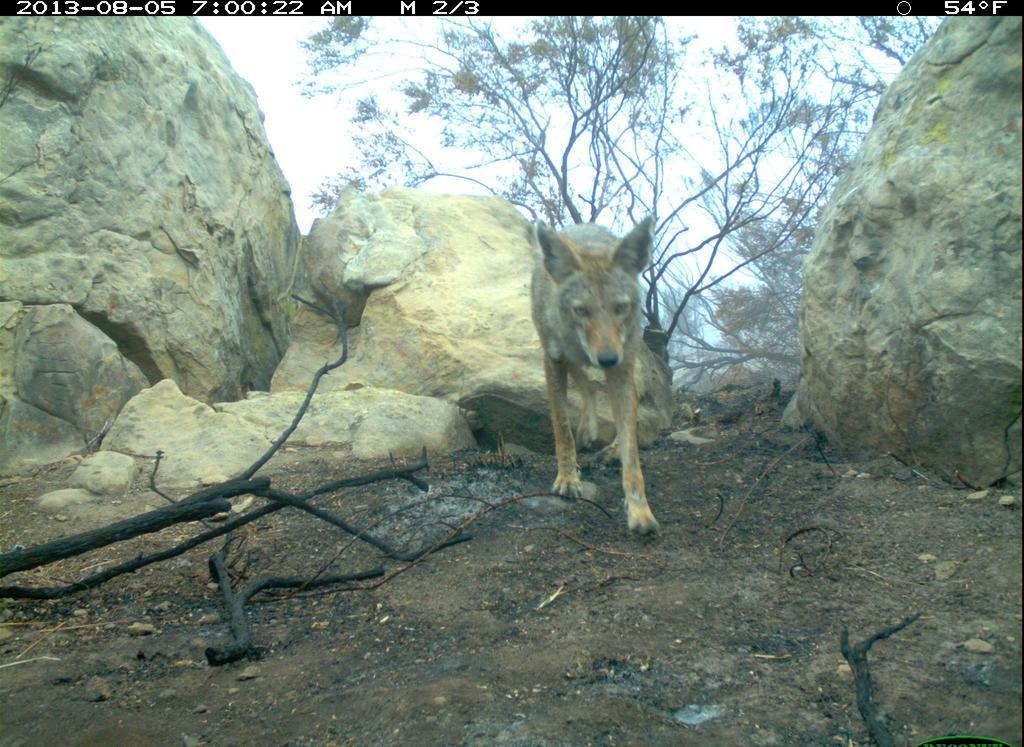coyote: (521, 207, 680, 548)
